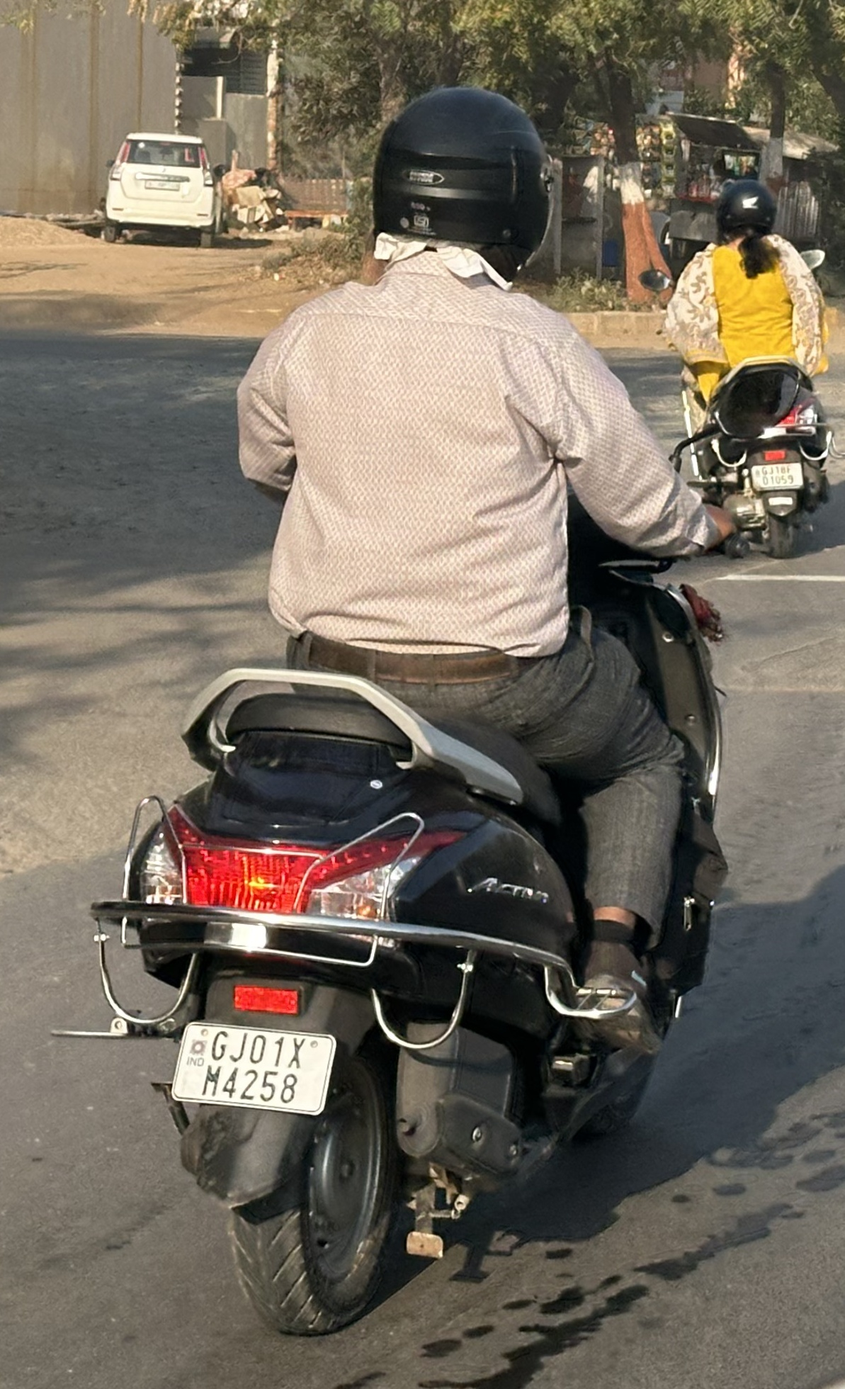BikeWithRider: (45, 72, 760, 1353), (645, 166, 844, 568)
Helmet: (350, 74, 568, 292), (702, 169, 788, 251)
